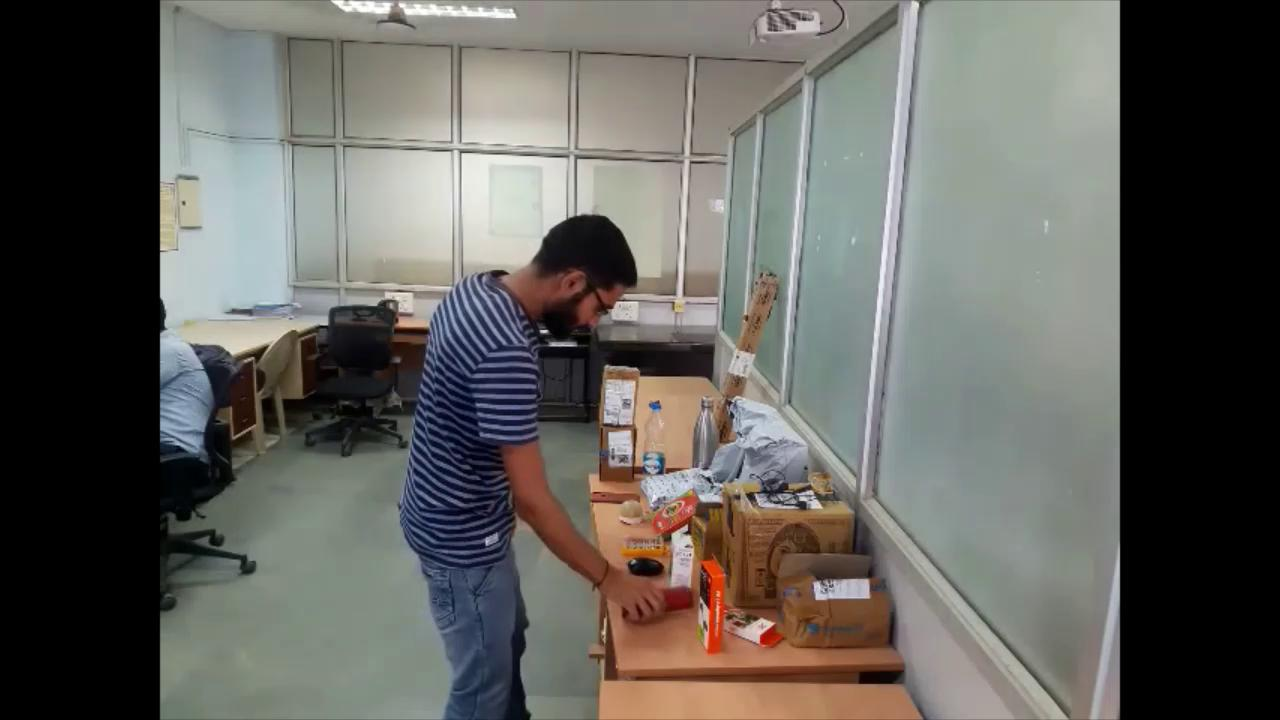Normal: (393, 163, 673, 720)
